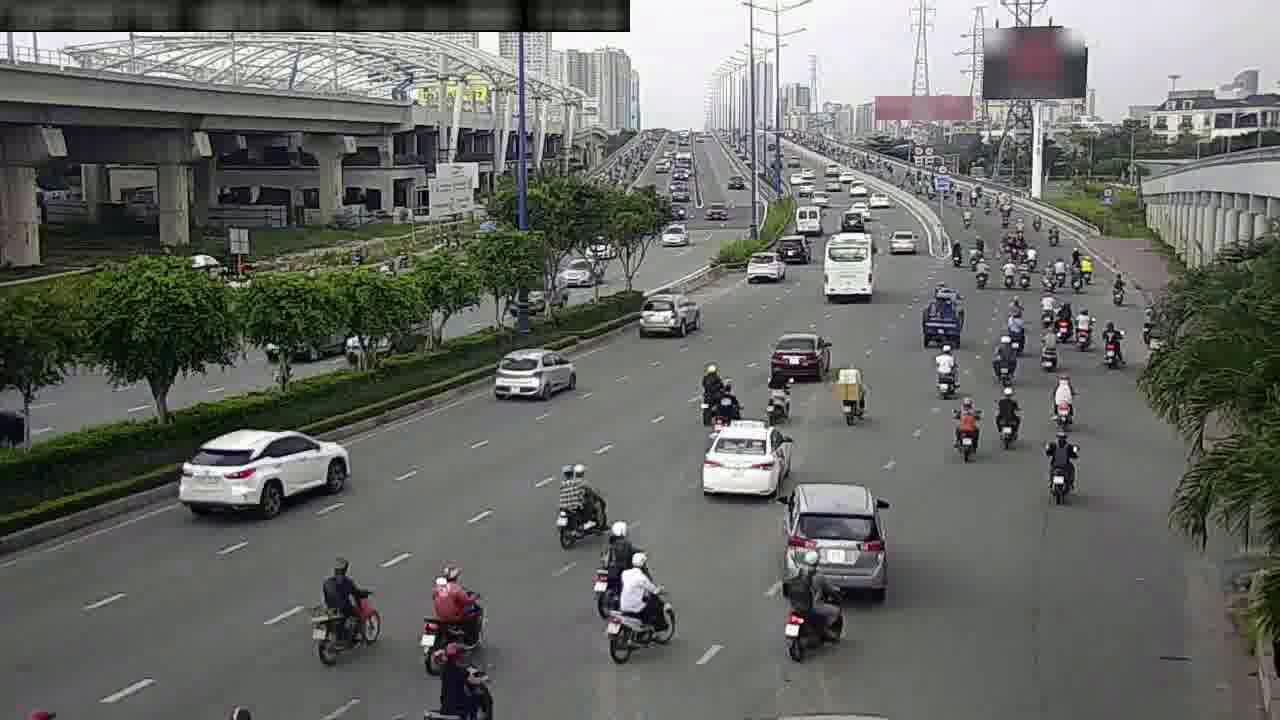14: (818, 225, 884, 313)
container: (156, 425, 361, 517), (756, 469, 889, 604), (470, 344, 590, 401), (636, 268, 697, 345), (762, 321, 833, 383), (736, 242, 796, 288)
motorbike: (764, 550, 857, 651), (316, 550, 399, 657), (410, 561, 491, 662), (606, 552, 682, 657), (535, 457, 592, 554), (685, 360, 752, 437), (589, 516, 636, 617), (938, 394, 998, 467), (1037, 427, 1080, 514), (832, 364, 877, 424), (919, 338, 967, 391), (982, 338, 1033, 387), (1036, 362, 1073, 429), (982, 380, 1017, 446), (1097, 316, 1133, 376), (1033, 325, 1063, 368)
